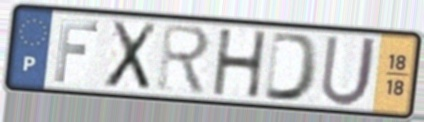D: (261, 29, 322, 104)
F: (51, 17, 102, 85)
H: (211, 27, 270, 100)
R: (155, 21, 213, 98)
U: (317, 33, 380, 109)
X: (102, 19, 160, 93)
